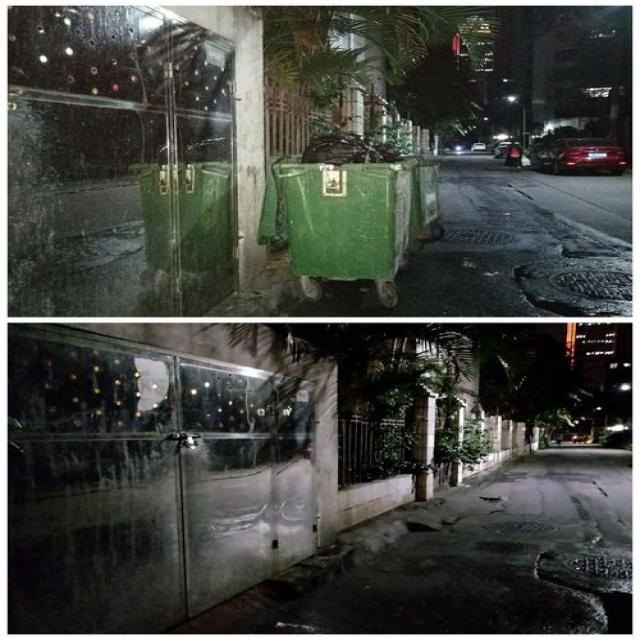overflow: (256, 132, 411, 274)
